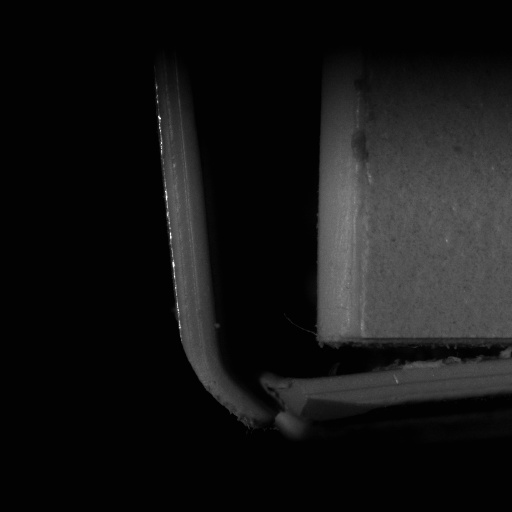kaijiao: (144, 41, 329, 434), (283, 329, 511, 424)
